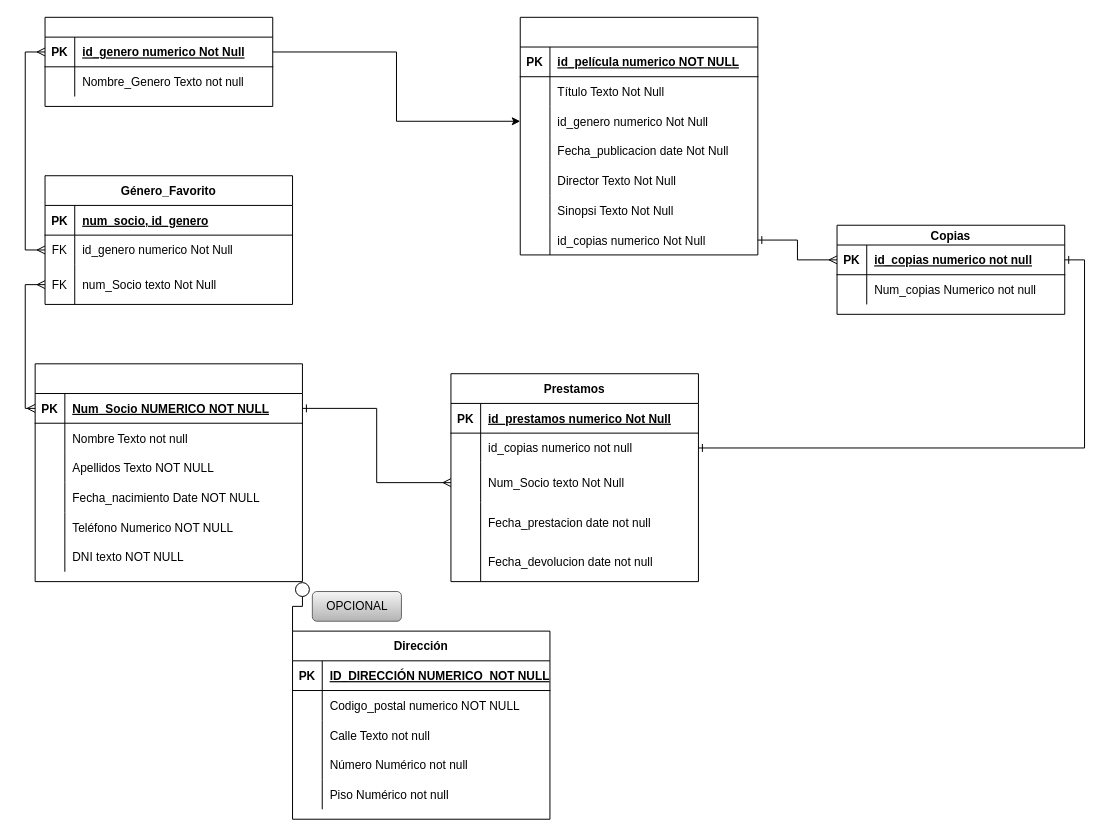
This 1111x837 diagram has some shape labels left out. Here are the shapes that lost their labels. From the top down, the box of each, then its label:
(44, 16, 273, 106): Género
(519, 16, 758, 255): Películas
(34, 363, 302, 582): Socios
